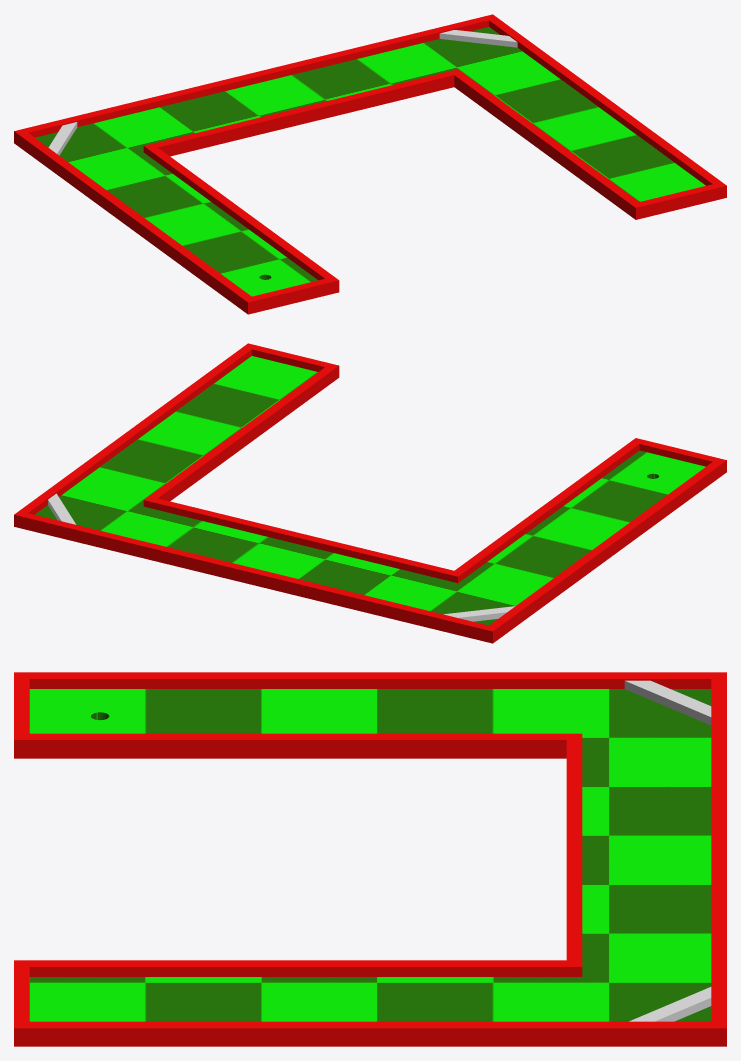
Rendered from Track7.fbx.
3 renders of one model, top to bottom at view 1: azimuth 30°, elevation 25°; view 2: azimuth 150°, elevation 25°; view 3: azimuth 270°, elevation 25°, orthographic. The views are drawn at different scales.
Visible parts, largest first — view 1: Track7_Track, Track7_Boundary, Track7_Extra; view 2: Track7_Track, Track7_Boundary, Track7_Extra; view 3: Track7_Track, Track7_Boundary, Track7_Extra.
Boxes of the visible parts, box(x1,y1,x2,y2) form: Track7_Track: box(35, 27, 705, 296); Track7_Boundary: box(14, 14, 726, 314); Track7_Extra: box(48, 30, 517, 155); Track7_Track: box(35, 356, 705, 625); Track7_Boundary: box(14, 343, 726, 643); Track7_Extra: box(48, 493, 515, 621); Track7_Track: box(29, 689, 711, 1021); Track7_Boundary: box(14, 672, 726, 1046); Track7_Extra: box(624, 680, 711, 1021).
Size of the model in its own units: 457 by 11 by 387.
